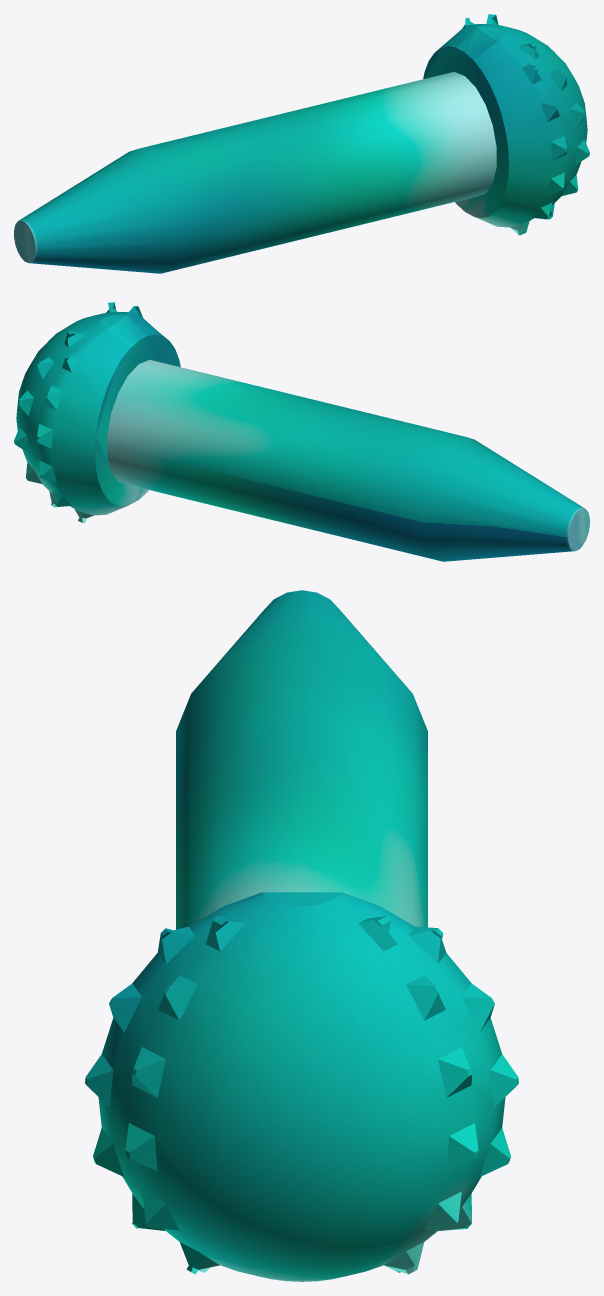
Rendered from SuperSpecialPrueba.fbx.
3 renders of one model, top to bottom at view 1: azimuth 30°, elevation 25°; view 2: azimuth 150°, elevation 25°; view 3: azimuth 270°, elevation 25°, orthographic. The views are drawn at different scales.
Parts seen in each view (by area): view 1: Sphere001; view 2: Sphere001; view 3: Sphere001.
Part boxes in pixels (<box>): Sphere001: <box>14,14,589,273</box>; Sphere001: <box>14,302,589,561</box>; Sphere001: <box>85,590,518,1281</box>.
Bounding box in the file's own units: 71.82 × 23.12 × 24.58.
1 material, 1 textured.
